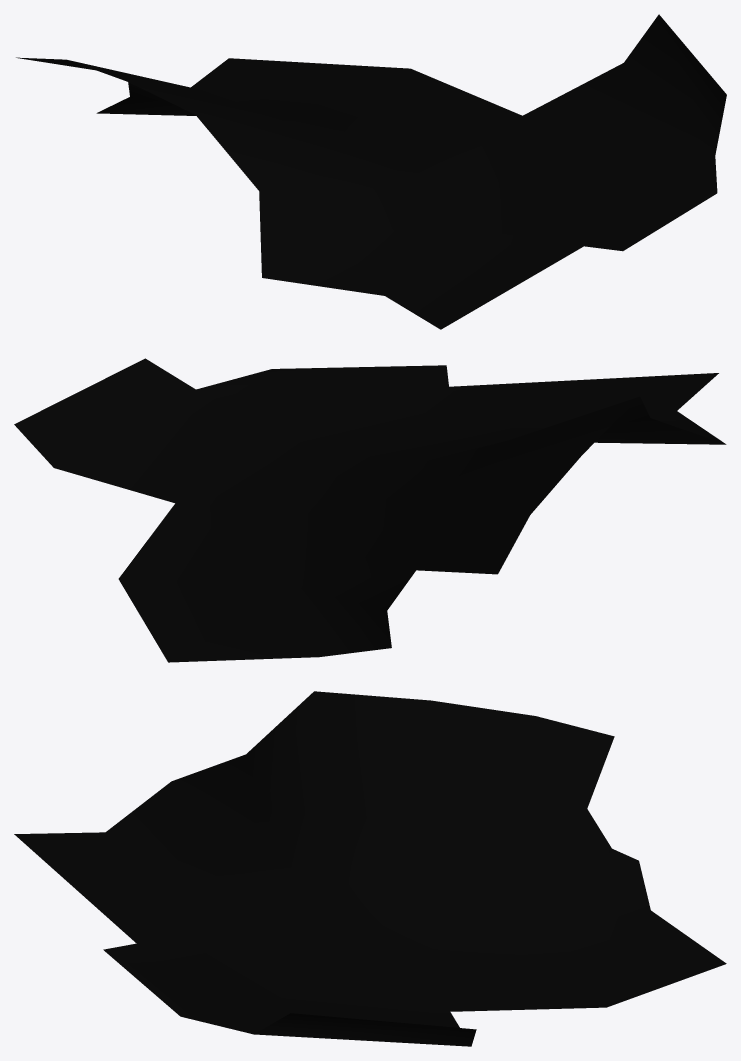
The model's file is HTOWN01_TREESHADOWS26.fbx.
The picture shows the model from 3 angles, top to bottom: view 1: azimuth 30°, elevation 25°; view 2: azimuth 150°, elevation 25°; view 3: azimuth 270°, elevation 25°; orthographic projection. The views are drawn at different scales.
Visible parts, largest first — view 1: HTOWN01_TREESHADOWS26; view 2: HTOWN01_TREESHADOWS26; view 3: HTOWN01_TREESHADOWS26.
Part boxes in pixels (x1,y1,x2,y2): HTOWN01_TREESHADOWS26: [16, 14, 726, 329]; HTOWN01_TREESHADOWS26: [14, 358, 726, 662]; HTOWN01_TREESHADOWS26: [14, 691, 726, 1046].
Size of the model in its own units: 197230 by 56436 by 232491.
1 material, 1 textured.
